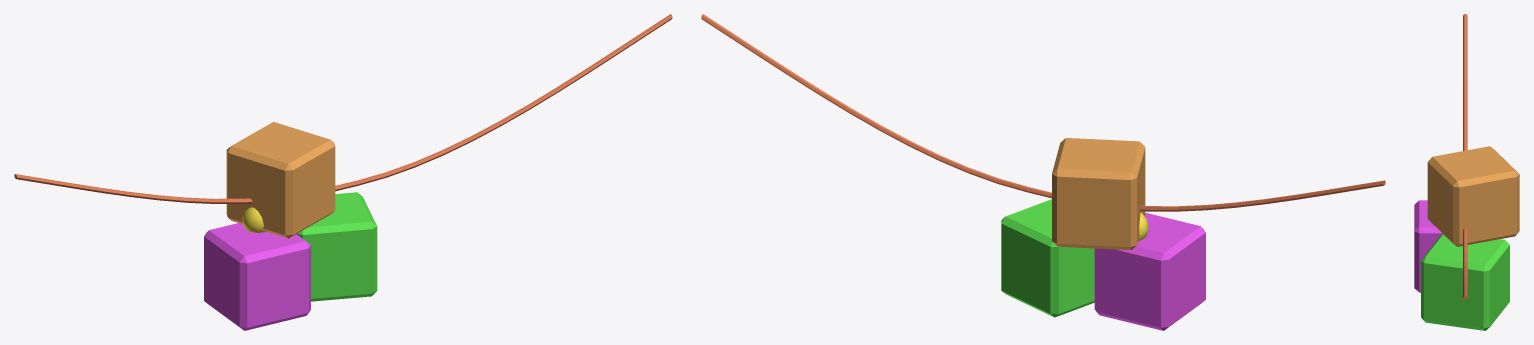
File: decor4.fbx
3 renders of one model, left to right at view 1: azimuth 30°, elevation 25°; view 2: azimuth 150°, elevation 25°; view 3: azimuth 270°, elevation 25°, orthographic. The views are drawn at different scales.
Parts seen in each view (by area): view 1: Cube.002, Cube.001, Cube, Cylinder; view 2: Cube.002, Cube.001, Cube, Cylinder; view 3: Cube.002, Cube, Cube.001, Cylinder.
Boxes of the visible parts, x1,y1,x2,y2 form: Cube.002: (226, 122, 335, 238); Cube.001: (204, 223, 310, 330); Cube: (297, 192, 377, 301); Cylinder: (14, 14, 672, 203); Cube.002: (1052, 138, 1145, 249); Cube.001: (1094, 212, 1205, 330); Cube: (1001, 199, 1094, 317); Cylinder: (701, 14, 1385, 211); Cube.002: (1427, 146, 1519, 246); Cube: (1421, 234, 1509, 330); Cube.001: (1414, 200, 1442, 292); Cylinder: (1463, 14, 1467, 299).
Bounding box in the file's own units: 2579 × 702 × 406.
